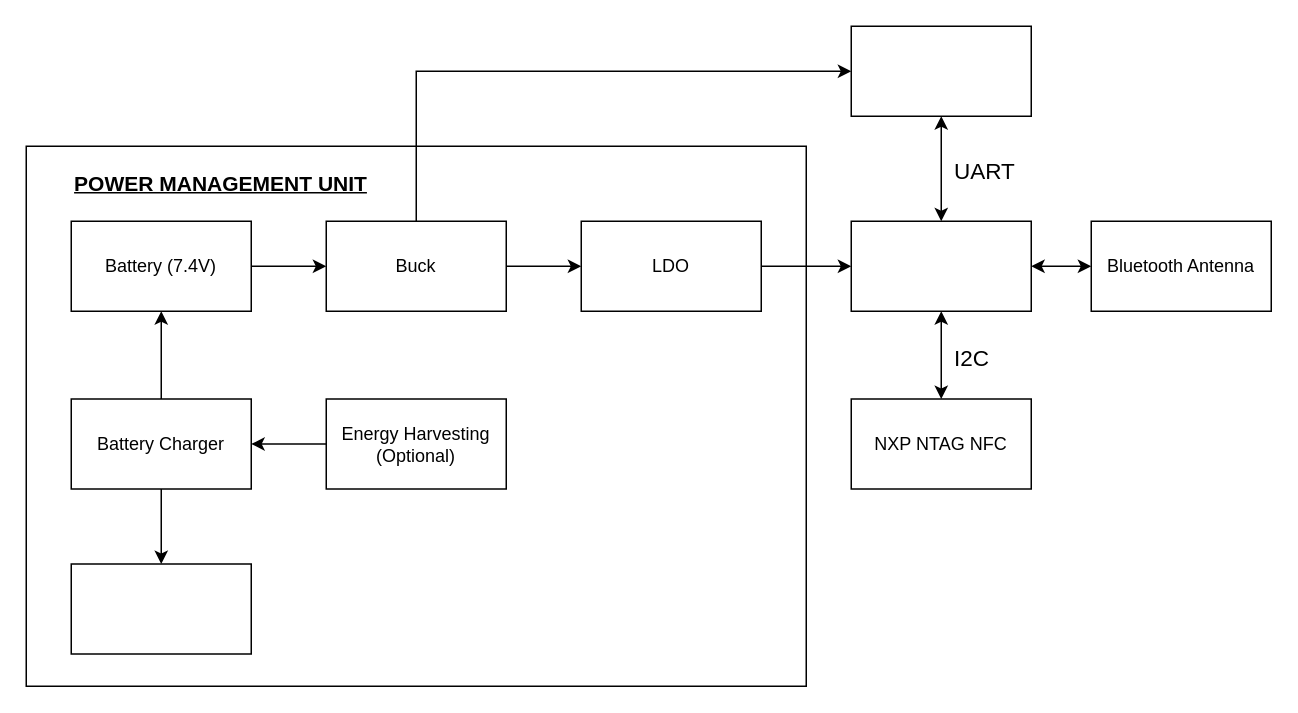
This 1298x713 diagram has some shape labels left out. The centre of each missing label's shape, as x and y in pixels:
"Barcode Scanner" belongs at (940,70).
"EFR32BG13" belongs at (940,265).
"External Adapter" belongs at (160,608).
